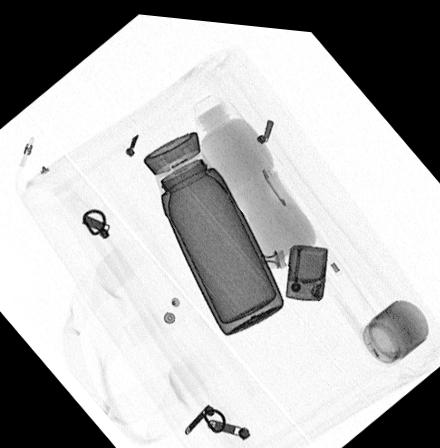Lighter: (285, 238, 327, 295)
